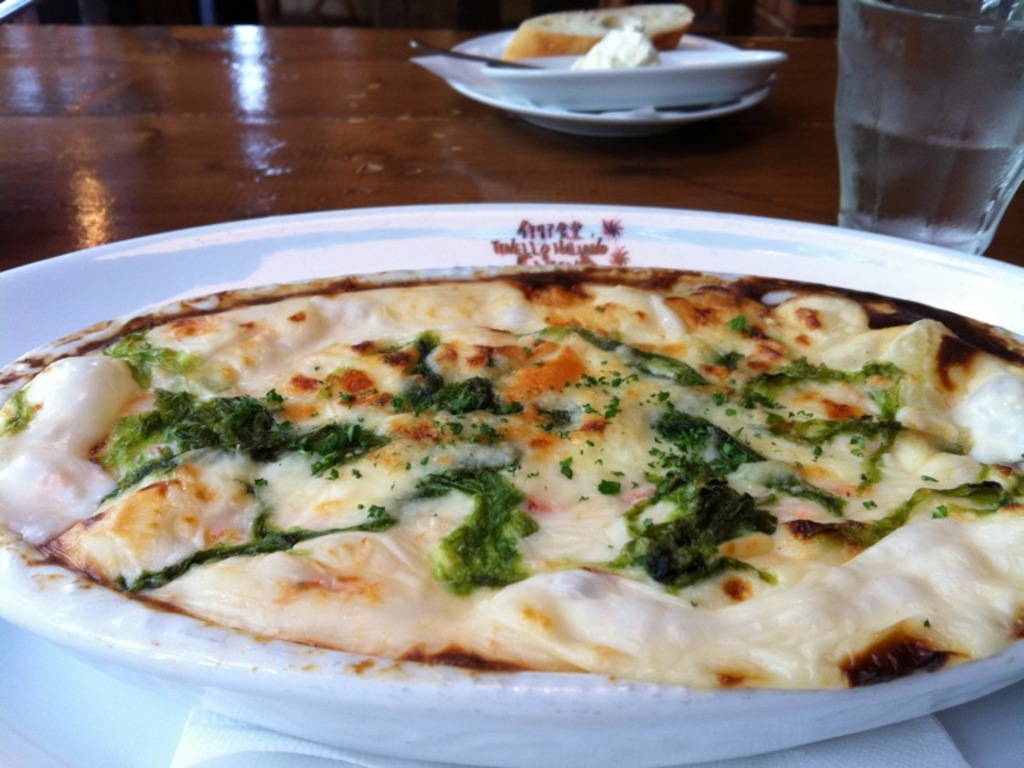Pizza: (16, 229, 1011, 698)
